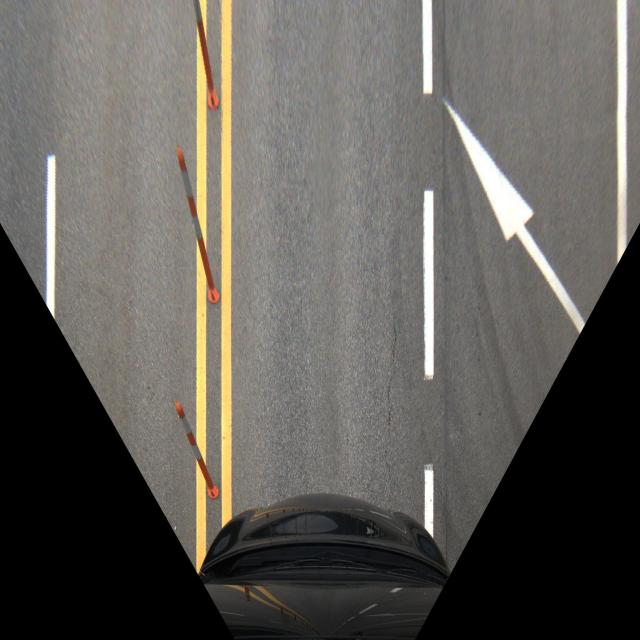chang_lane_left: (424, 79, 628, 397)
